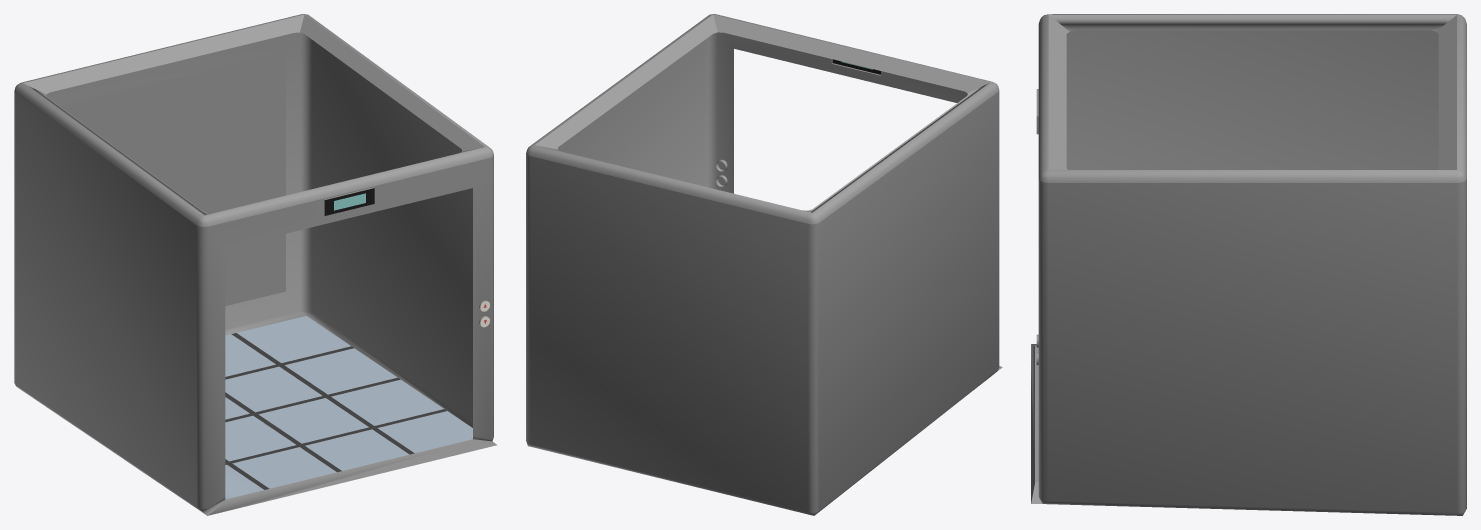
Rendered from Elevator.fbx.
3 renders of one model, left to right at view 1: azimuth 30°, elevation 25°; view 2: azimuth 150°, elevation 25°; view 3: azimuth 270°, elevation 25°, orthographic. The views are drawn at different scales.
Parts seen in each view (by area): view 1: Elevator; view 2: Elevator; view 3: Elevator.
Part boxes in pixels (x1=…): Elevator: x1=14, y1=14, x2=497, y2=515; Elevator: x1=526, y1=14, x2=1002, y2=515; Elevator: x1=1031, y1=14, x2=1466, y2=515.
Size of the model in its own units: 878 by 861 by 990.
